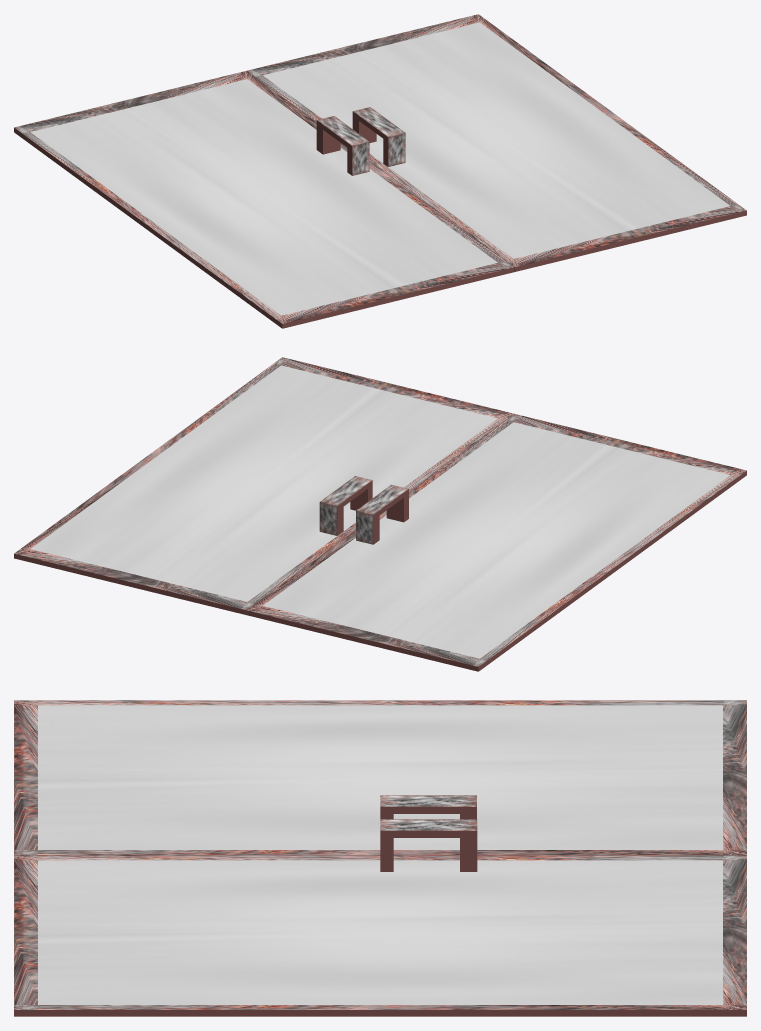
The model's file is doorglass4x3_wtf.obj.
3 views of the same model, one above another, from view 1: azimuth 30°, elevation 25°; view 2: azimuth 150°, elevation 25°; view 3: azimuth 270°, elevation 25° (orthographic). The views are drawn at different scales.
Visible parts, largest first — view 1: group82, group77, group142, group140, group6, group35, group37, group41, group118, group124, group11, group17 (+40 smaller); view 2: group82, group77, group23, group11, group148, group124, group131, group140, group8, group14, group19, group28 (+40 smaller); view 3: group77, group82, group124, group142, group17, group35, group49, group147, group131, group153, group12, group41 (+40 smaller).
Boxes of the visible parts, left/top/right/bottom form: group82: left=14, top=71, right=514, bottom=328; group77: left=246, top=14, right=746, bottom=271; group142: left=264, top=197, right=383, bottom=249; group140: left=378, top=210, right=497, bottom=262; group6: left=389, top=167, right=507, bottom=219; group35: left=372, top=49, right=490, bottom=101; group37: left=371, top=35, right=488, bottom=81; group41: left=377, top=88, right=495, bottom=140; group118: left=144, top=145, right=263, bottom=197; group124: left=139, top=105, right=258, bottom=157; group11: left=502, top=180, right=621, bottom=232; group17: left=497, top=141, right=616, bottom=192; group82: left=246, top=414, right=746, bottom=671; group77: left=14, top=357, right=514, bottom=614; group23: left=210, top=424, right=272, bottom=483; group11: left=327, top=392, right=389, bottom=461; group148: left=559, top=449, right=621, bottom=518; group124: left=371, top=562, right=433, bottom=631; group131: left=480, top=589, right=542, bottom=658; group140: left=451, top=422, right=513, bottom=491; group8: left=381, top=392, right=443, bottom=450; group14: left=272, top=365, right=334, bottom=424; group19: left=218, top=366, right=280, bottom=435; group28: left=247, top=532, right=309, bottom=601; group77: left=14, top=855, right=746, bottom=1016; group82: left=14, top=700, right=746, bottom=855; group124: left=495, top=777, right=722, bottom=813; group142: left=152, top=777, right=379, bottom=813; group17: left=152, top=932, right=379, bottom=968; group35: left=495, top=932, right=721, bottom=968; group49: left=380, top=932, right=550, bottom=968; group147: left=38, top=777, right=208, bottom=813; group131: left=495, top=705, right=722, bottom=741; group153: left=152, top=705, right=379, bottom=741; group12: left=38, top=932, right=208, bottom=968; group41: left=381, top=896, right=608, bottom=932.
Bounding box in the file's own units: 660 × 82.68 × 660.
